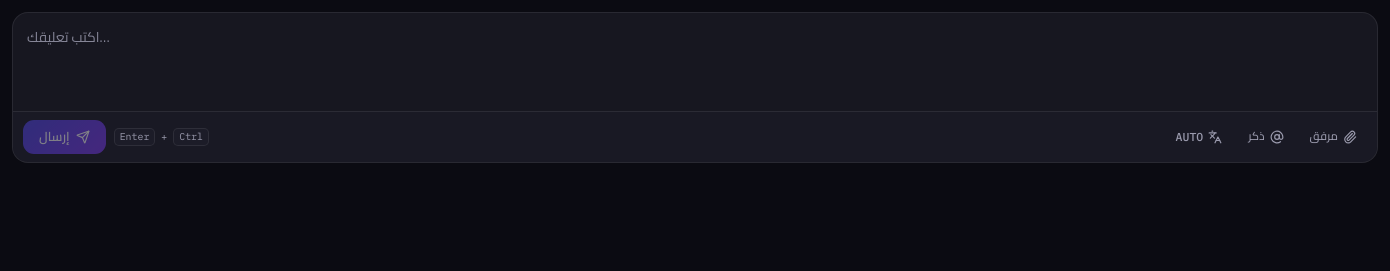
Test: CommentComposer — mentions › the @ button opens the picker and leaves it open
Type "مرحبا" into the text box at (695, 62), box left=13, top=13, right=1377, bottom=111
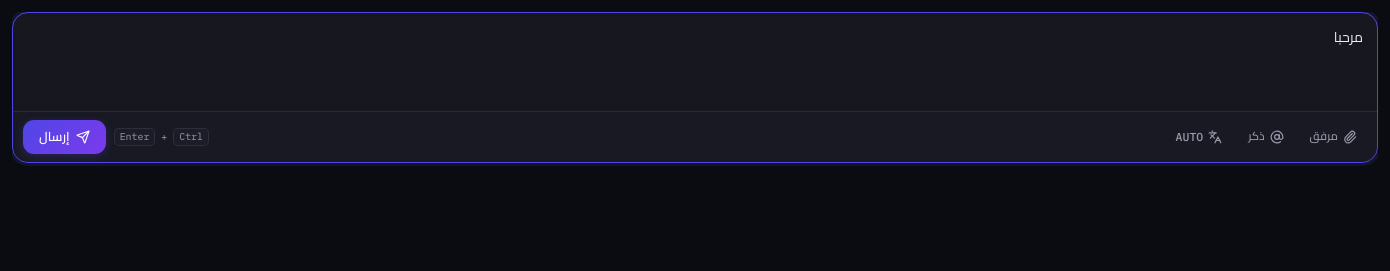
Click the button "ذكر" at (1266, 137), box left=1238, top=122, right=1294, bottom=152
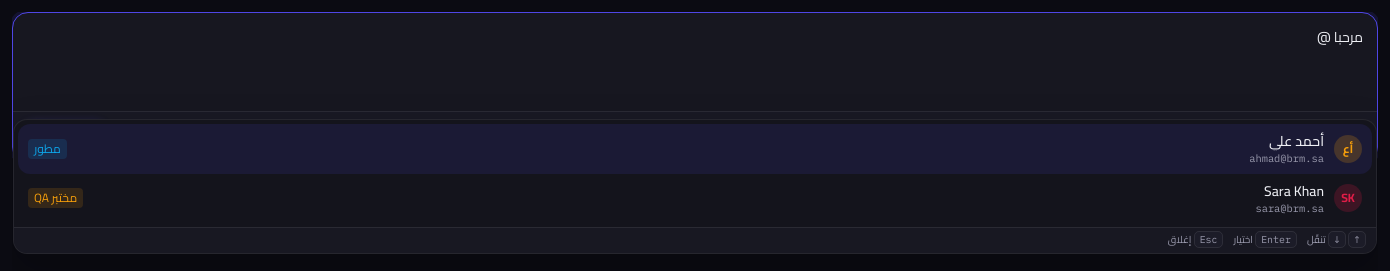
expect the list is shown: met, box left=13, top=119, right=1377, bottom=254
